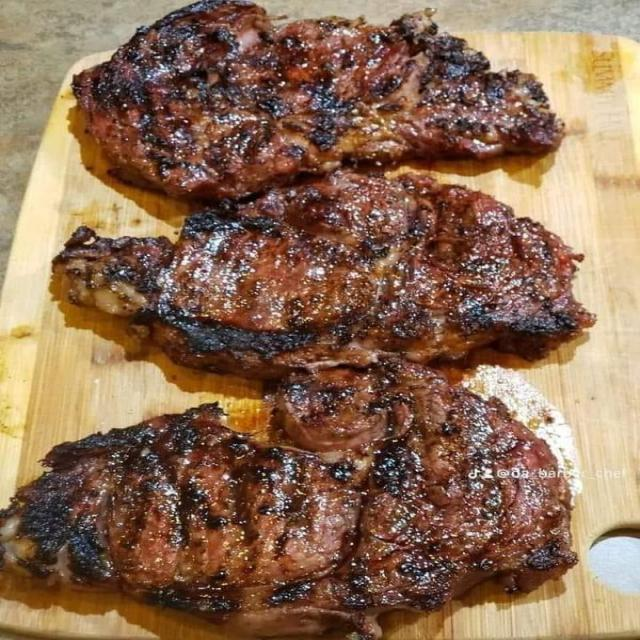beef steak: (0, 361, 576, 639), (53, 170, 594, 378), (73, 0, 562, 198), (274, 360, 449, 451)
